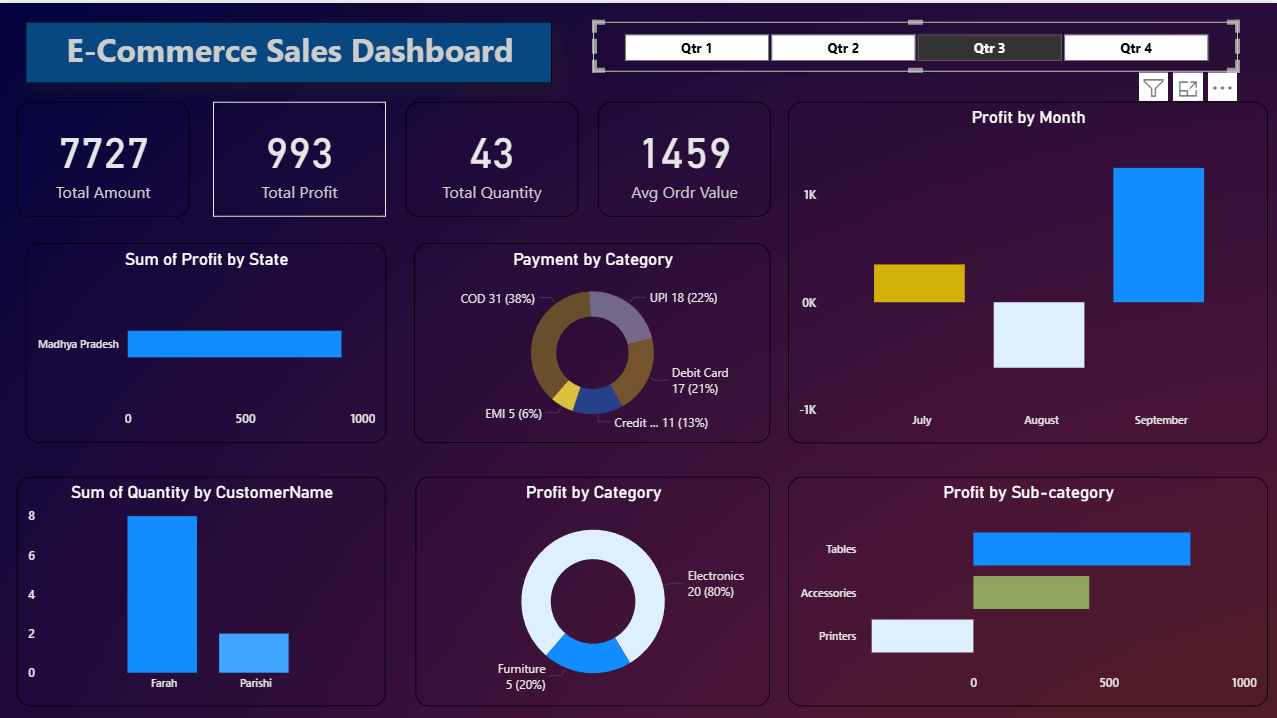

The page's visual inventory and layout, read from the dashboard file:
{"tool":"powerbi","page":{"name":"Page 1","canvas":[1280,720],"ordinal":0},"visuals":[{"type":"textbox","box":[27.4,19,526.2,61.9],"z":0},{"type":"columnChart","title":"Profit by Month","fields":{"Category":["Orders.Order Date.Variation.Date Hierarchy.Month"],"Y":["Sum(Details.Profit)"]},"box":[790.5,98.8,479.8,341.7],"z":1000},{"type":"clusteredBarChart","title":"Profit by Sub-category","fields":{"Y":["Sum(Details.Profit)"],"Category":["Details.Sub-Category"]},"box":[790.5,473.8,479.8,229.8],"z":2000},{"type":"donutChart","title":"Profit by Category","fields":{"Category":["Details.Category"],"Y":["Sum(Details.Quantity)"]},"box":[417.9,473.8,354.8,229.8],"z":2001},{"type":"donutChart","title":"Payment by Category","fields":{"Y":["CountNonNull(Details.Category)"],"Category":["Details.PaymentMode"]},"box":[416.7,240.5,356,200],"z":2002},{"type":"card","fields":{"Values":["Sum(Details.Amount)"]},"box":[19,98.8,172.6,115.5],"z":2003},{"type":"card","fields":{"Values":["Sum(Details.Profit)"]},"box":[215.5,98.8,172.6,115.5],"z":2004},{"type":"card","fields":{"Values":["Sum(Details.Quantity)"]},"box":[407.1,98.8,172.6,115.5],"z":2005},{"type":"card","fields":{"Values":["Sum(Details.Avg Ordr Value)"]},"box":[600,98.8,172.6,115.5],"z":2006},{"type":"barChart","fields":{"Category":["Orders.State"],"Y":["Sum(Details.Profit)"]},"box":[27.4,240.5,360.7,200],"z":2007},{"type":"columnChart","fields":{"Y":["Sum(Details.Quantity)"],"Category":["Orders.CustomerName"]},"box":[19,473.8,369,229.8],"z":2008},{"type":"slicer","fields":{"Values":["Orders.Order Date.Variation.Date Hierarchy.Quarter"]},"box":[595.2,19,645.2,50],"z":2009}]}

Visuals, with their boxes in screenshot pixels (x1, y1, x2, y2), scaled from the page's 1280x720 canvas onto the 1277x718 screenshot:
textbox: select_region(27, 19, 552, 81)
"Profit by Month" columnChart: select_region(789, 99, 1267, 439)
"Profit by Sub-category" clusteredBarChart: select_region(789, 472, 1267, 702)
"Profit by Category" donutChart: select_region(417, 472, 771, 702)
"Payment by Category" donutChart: select_region(416, 240, 771, 439)
card - Sum(Details.Amount): select_region(19, 99, 191, 214)
card - Sum(Details.Profit): select_region(215, 99, 387, 214)
card - Sum(Details.Quantity): select_region(406, 99, 578, 214)
card - Sum(Details.Avg Ordr Value): select_region(599, 99, 771, 214)
barChart - Orders.State x Sum(Details.Profit): select_region(27, 240, 387, 439)
columnChart - Sum(Details.Quantity) x Orders.CustomerName: select_region(19, 472, 387, 702)
slicer - Orders.Order Date.Variation.Date Hierarchy.Quarter: select_region(594, 19, 1237, 69)
